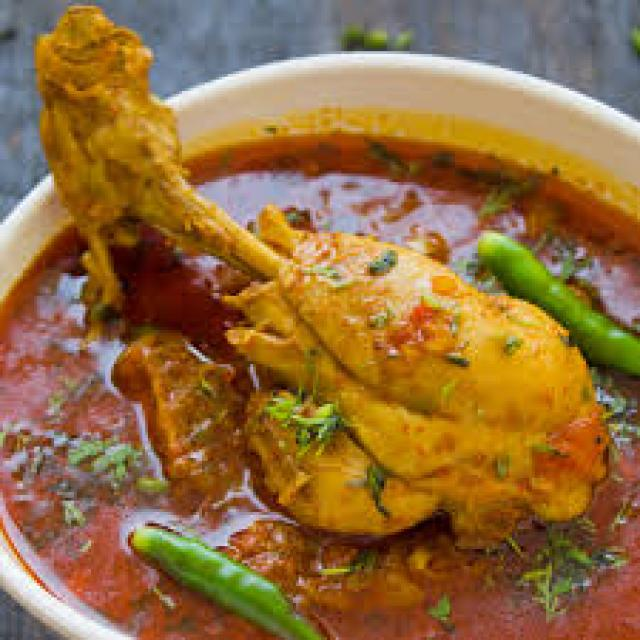Frango: (6, 6, 637, 637)
